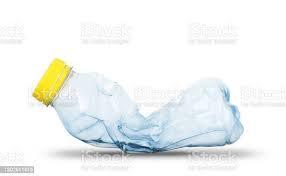plastic: (34, 59, 242, 150)
